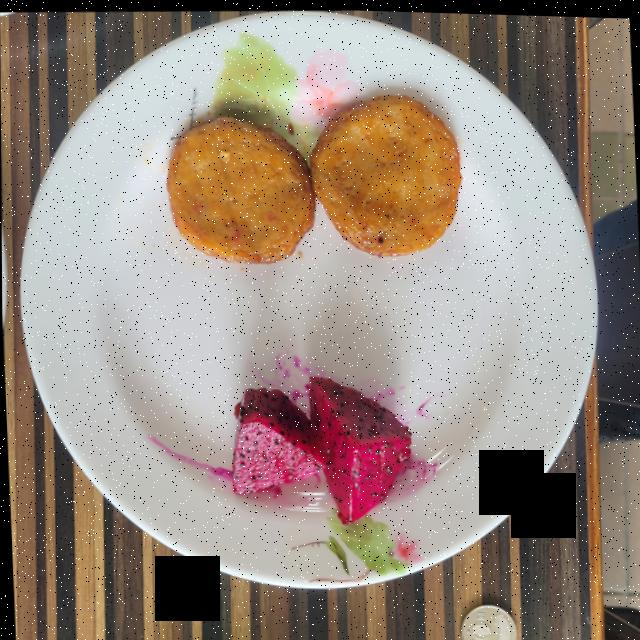coin: (460, 600, 515, 640)
fish cake: (166, 91, 461, 261)
